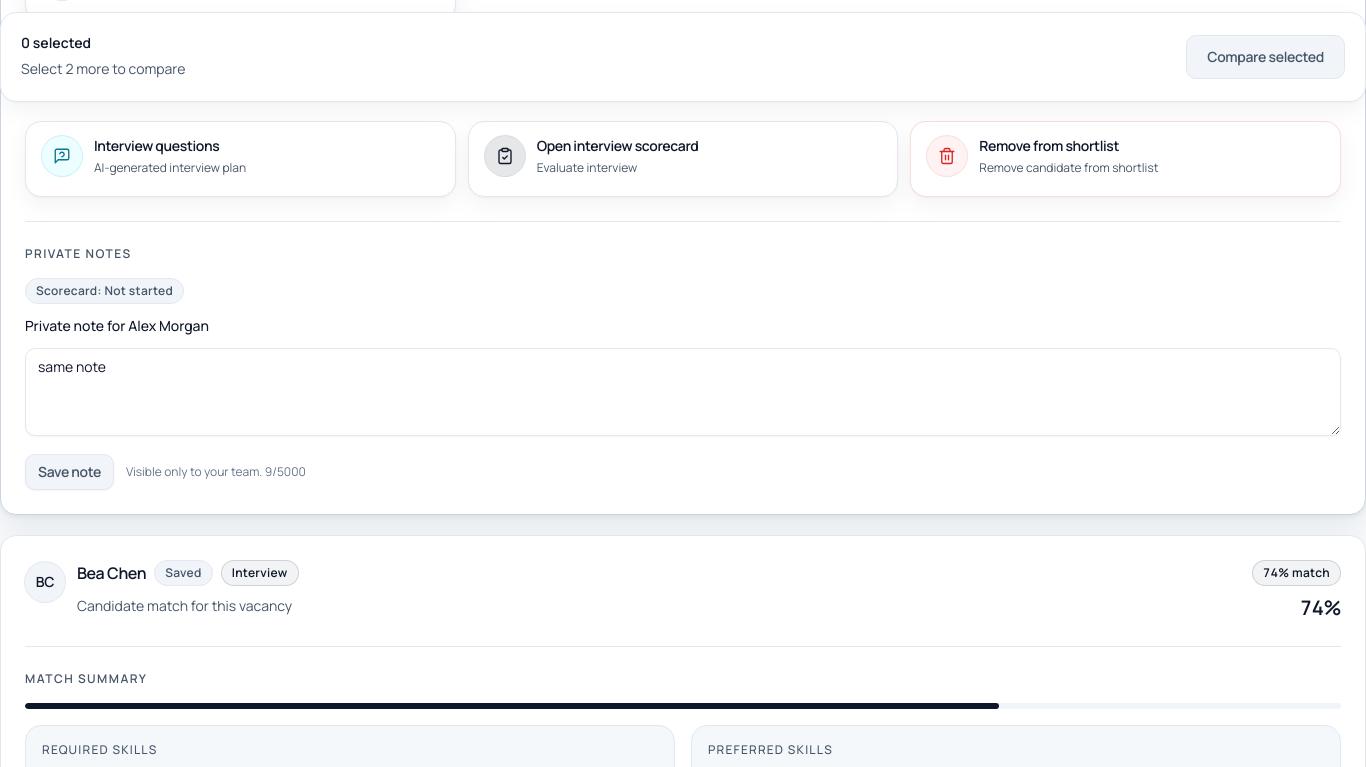
Test: Shortlist note editor UI › keeps independent drafts for two shortlist entries that share the same initial note
(page scrolled)
Replace the text in the text box labelled "Private note for Alex Morgan" with "Alex draft": (683, 392) [25,348,1341,436]
(page scrolled)
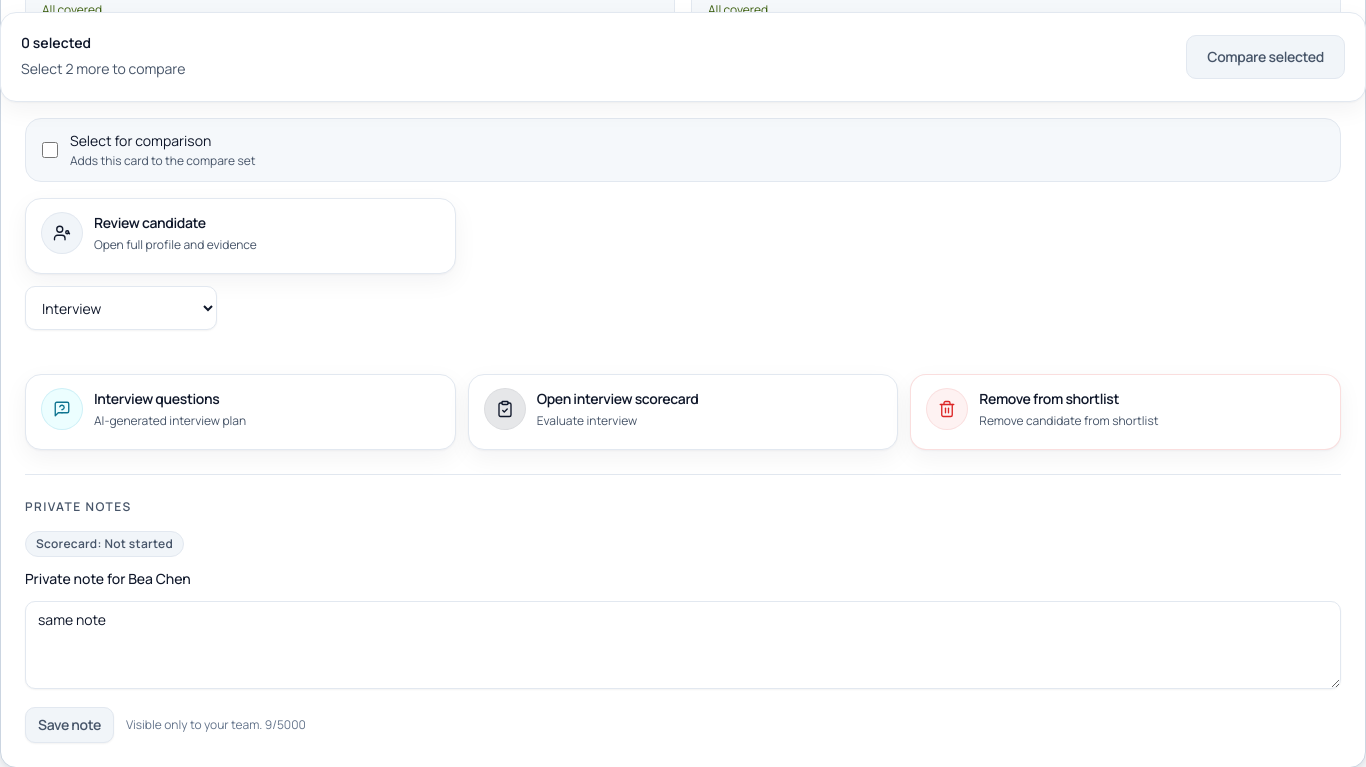
Replace the text in the text box labelled "Private note for Bea Chen" with "Bea draft": (683, 645) [25,601,1341,689]
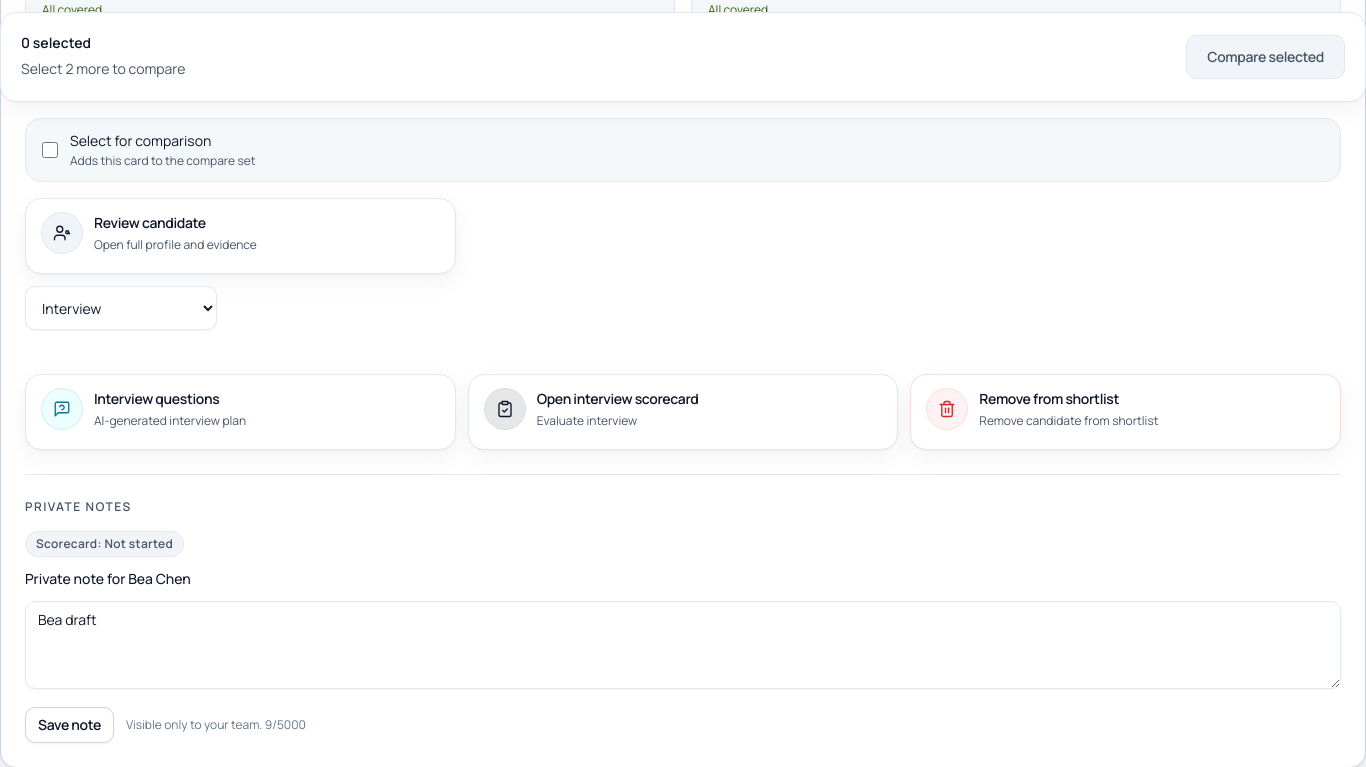
Now the button with aria-label "Save note for Bea Chen" is enabled, box [25,707,114,743]
